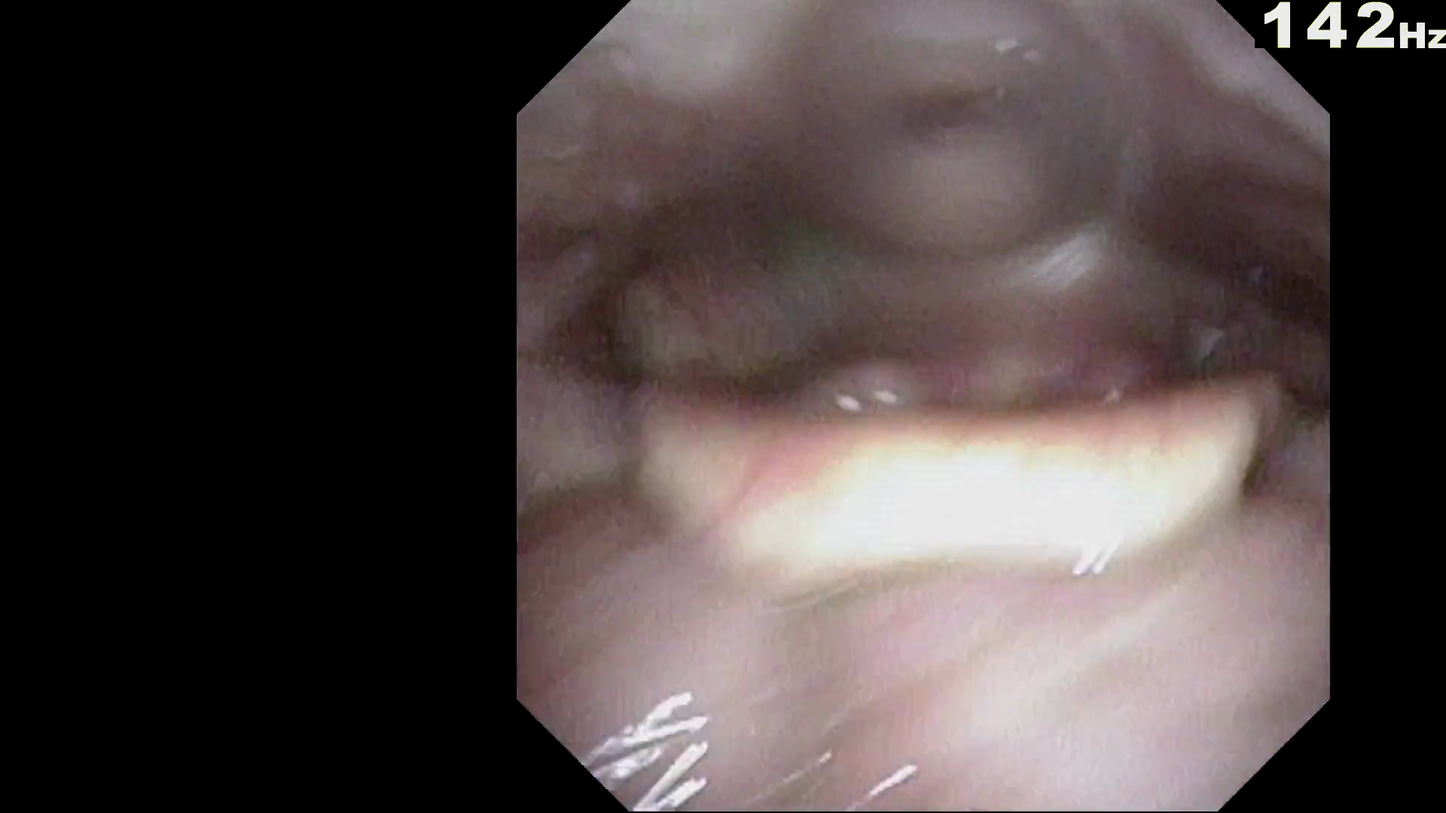epiglottis: (658, 401, 1273, 625)
